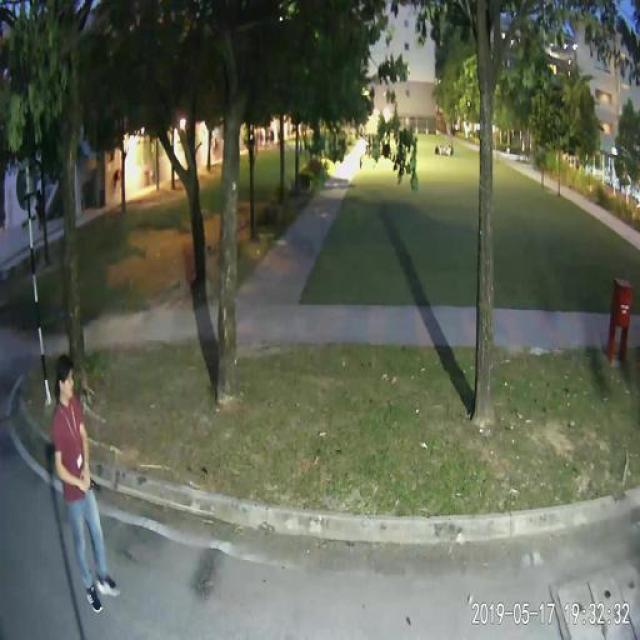Gun: (72, 460, 106, 502)
